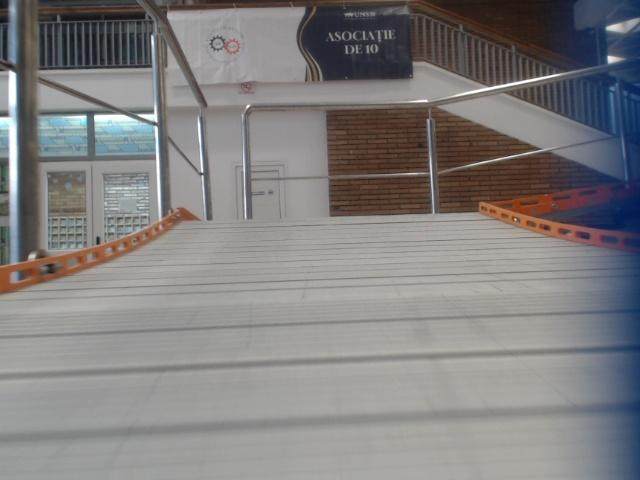rampUp: (0, 200, 639, 479)
ramps-railing: (242, 60, 639, 188), (5, 0, 120, 262), (142, 0, 185, 212), (183, 91, 210, 219), (428, 112, 439, 213), (243, 191, 251, 218)
